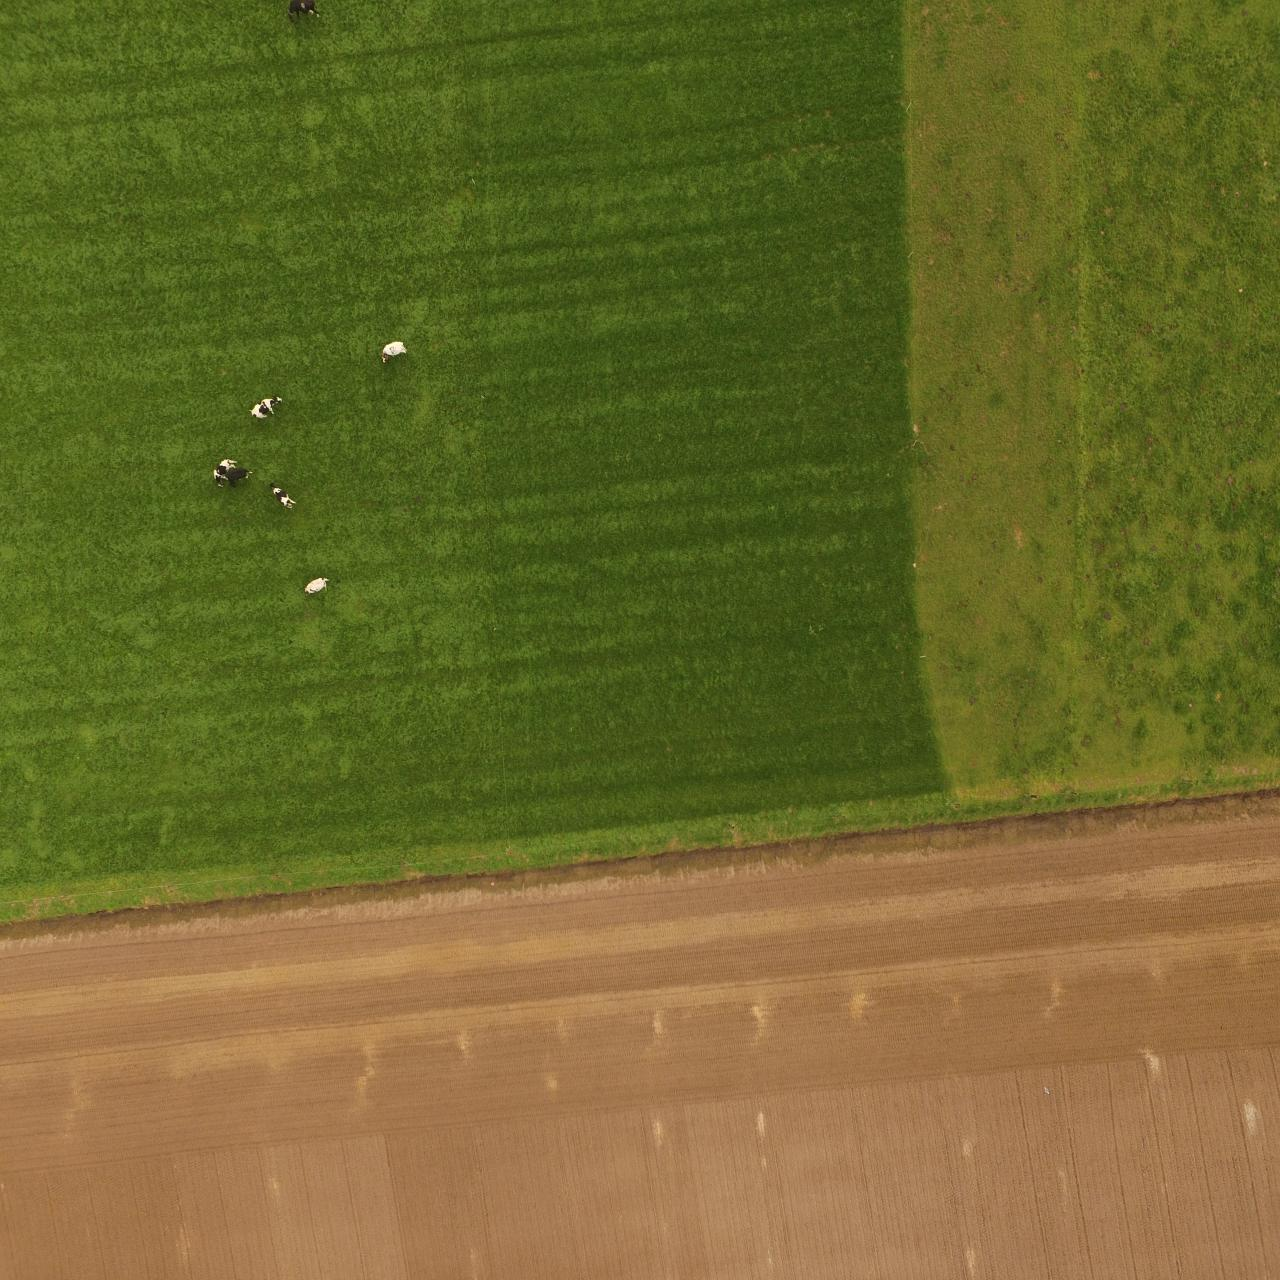cow: (250, 395, 282, 420), (271, 482, 295, 511), (213, 462, 238, 485), (379, 341, 407, 359), (302, 578, 332, 594), (227, 469, 251, 484)
